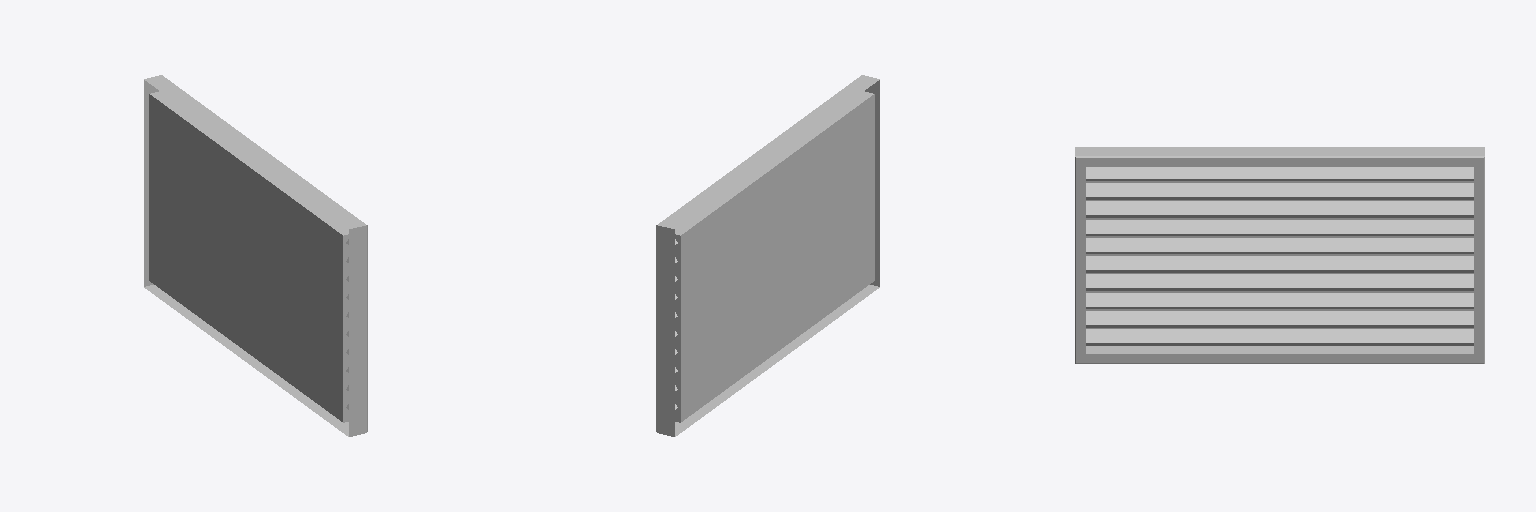
Rendered from vent2_Low.obj.
3 views of the same model, side by side, from view 1: azimuth 30°, elevation 25°; view 2: azimuth 150°, elevation 25°; view 3: azimuth 270°, elevation 25° (orthographic).
Parts seen in each view (by area): view 1: Cube; view 2: Cube; view 3: Cube.
Part boxes in pixels (x1,y1,x2,y2): Cube: (144, 75, 367, 436); Cube: (656, 75, 879, 436); Cube: (1075, 147, 1484, 363).
Size of the model in its own units: 0.1947 by 2 by 3.58.